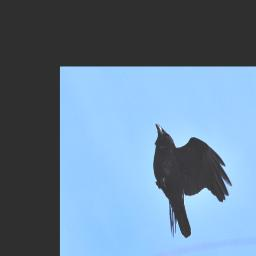Crow: (127, 110, 249, 243)
